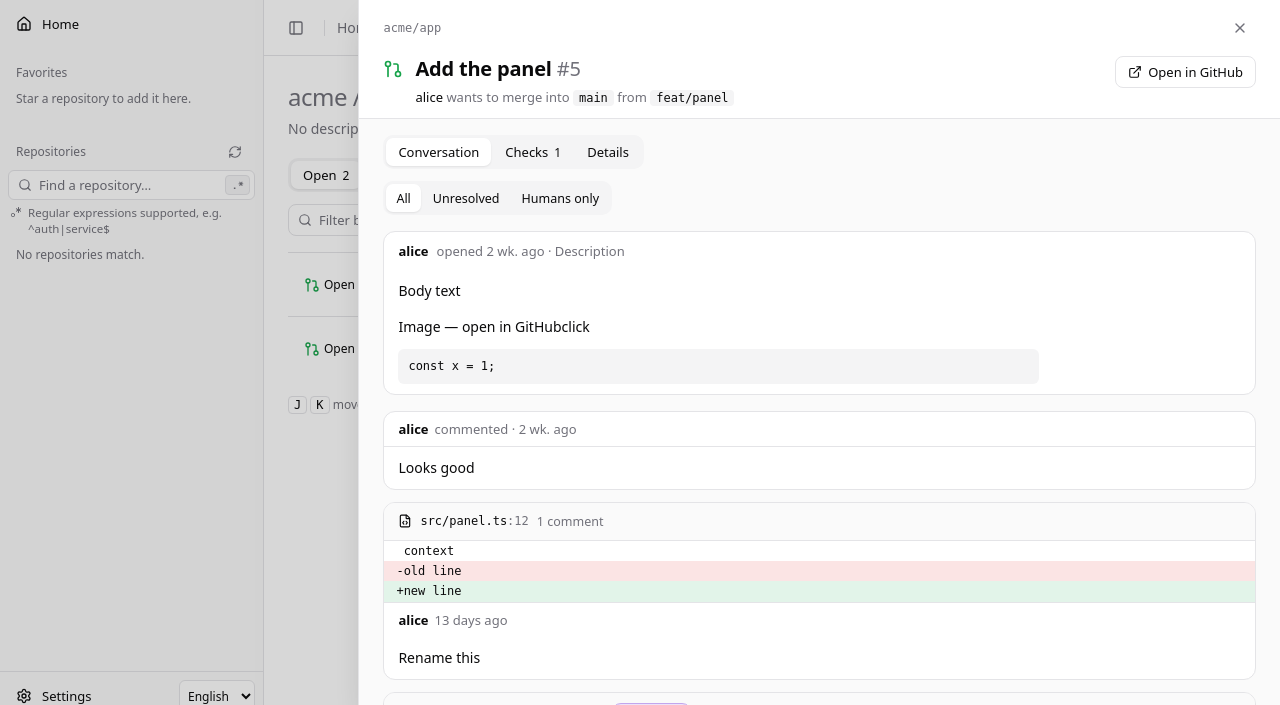
Unresolved shows only unresolved threads; Humans hides bots; bots start collapsed (AC-6.6)
The width and height of the screenshot is (1280, 705).
Check: the text "Rename this" is shown, box [398,648,480,667]
Click the button "Unresolved".
click(466, 198)  # box [423,184,510,212]
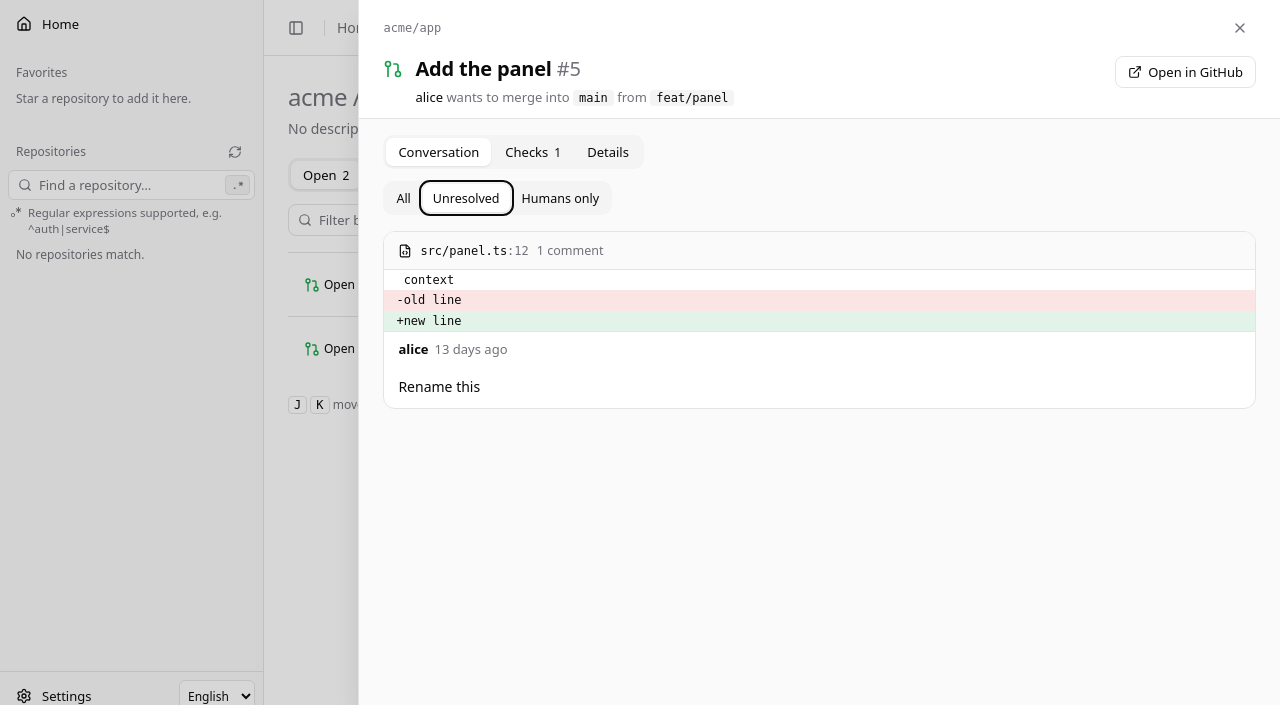
Check: the text "Rename this" is shown, box [398,377,480,396]
Click the button "Humans only".
click(560, 198)  # box [512,184,609,212]
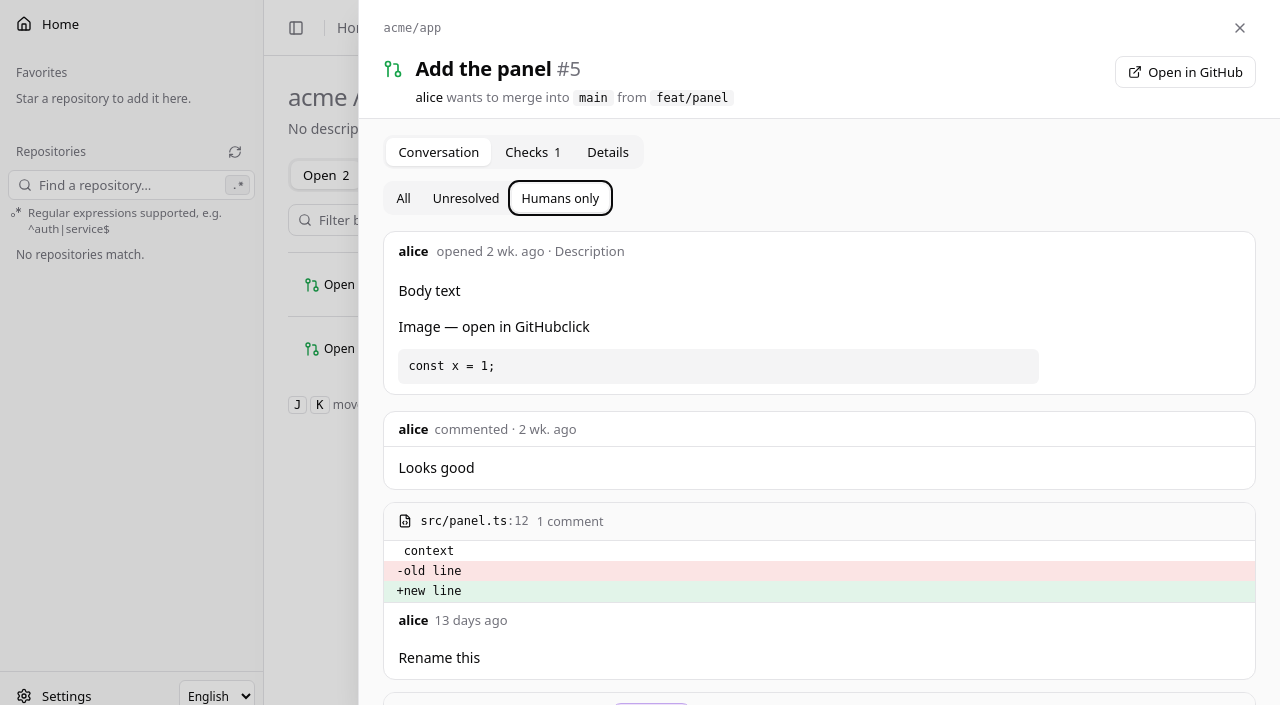
Check: the text "Looks good" is shown, box [398,458,475,477]
